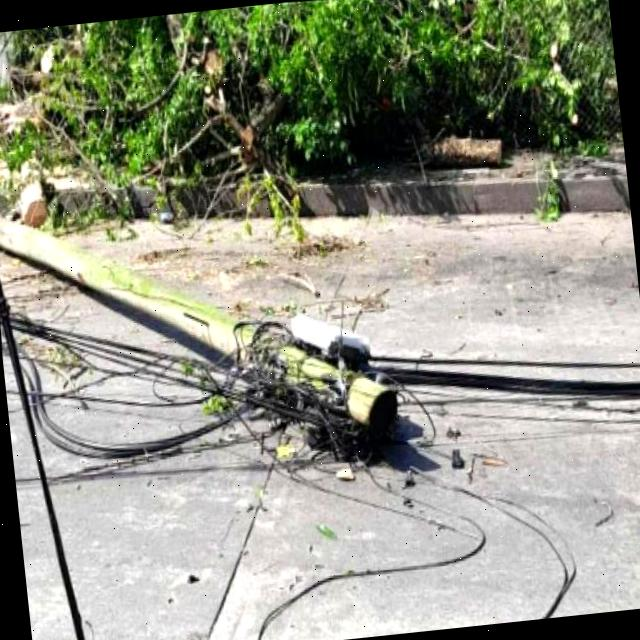Broken Pole: (0, 209, 399, 437)
